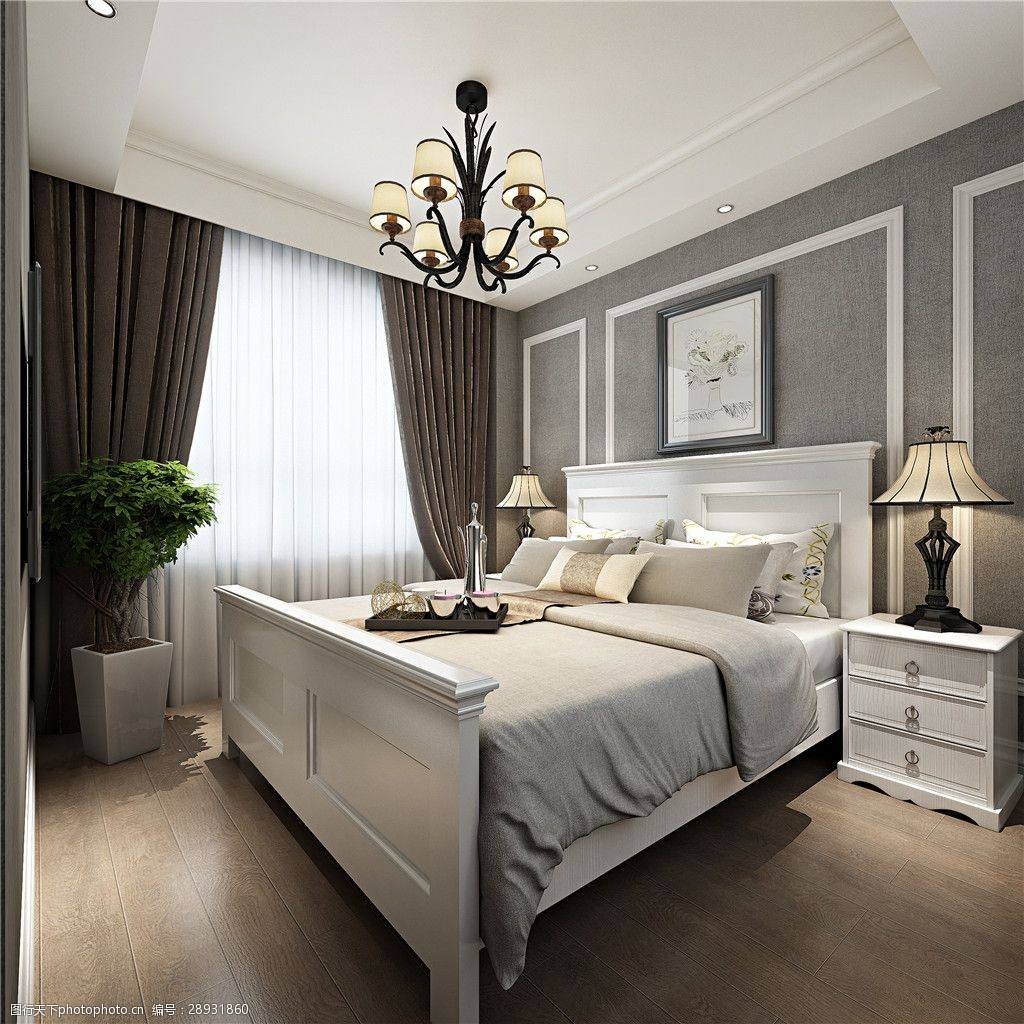床: (233, 584, 832, 932)
枕头: (495, 521, 812, 624)
灯: (356, 74, 577, 297), (878, 426, 1002, 627), (495, 459, 552, 553), (708, 200, 740, 222)
